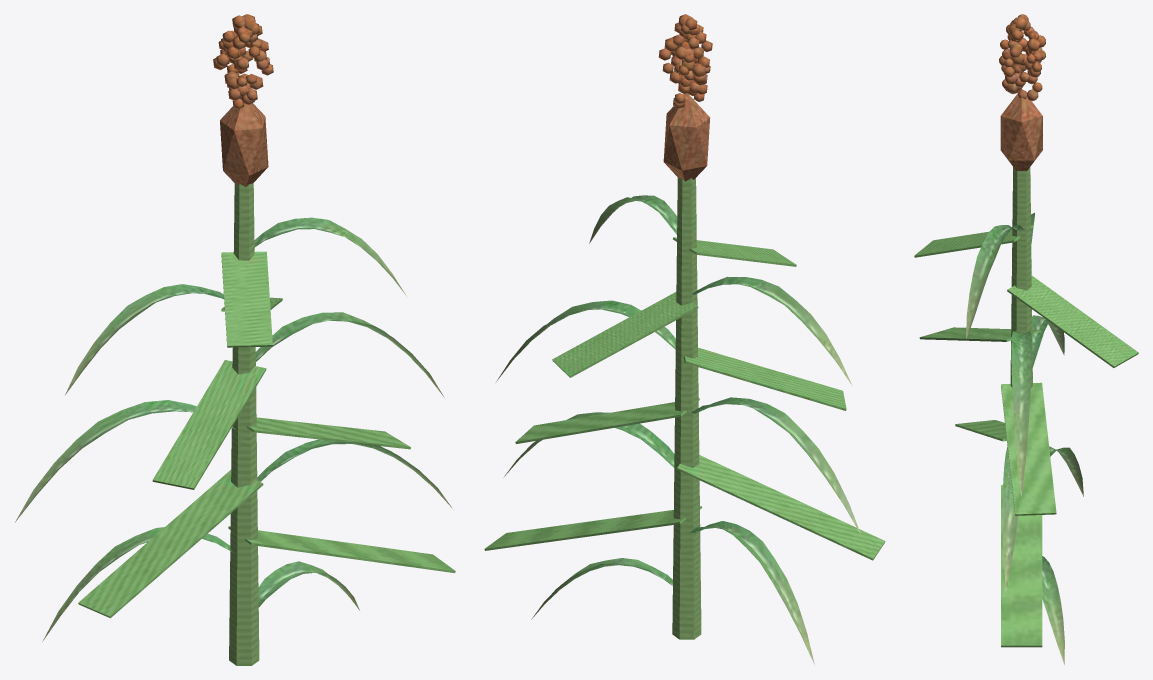
The model's file is sorgo.glb.
The picture shows the model from 3 angles, left to right: view 1: azimuth 30°, elevation 25°; view 2: azimuth 150°, elevation 25°; view 3: azimuth 270°, elevation 25°; orthographic projection. The views are drawn at different scales.
Parts seen in each view (by area): view 1: sorgo_lp, sorgo; view 2: sorgo_lp, sorgo; view 3: sorgo_lp, sorgo.
Boxes of the visible parts, x1,y1,x2,y2 form: sorgo_lp: [78, 103, 455, 665]; sorgo: [15, 14, 452, 641]; sorgo_lp: [484, 93, 885, 639]; sorgo: [496, 14, 861, 665]; sorgo_lp: [914, 88, 1138, 647]; sorgo: [966, 14, 1083, 664].
Size of the model in its own units: 1.24 by 1.88 by 0.6525.
2 materials, 2 textured.
